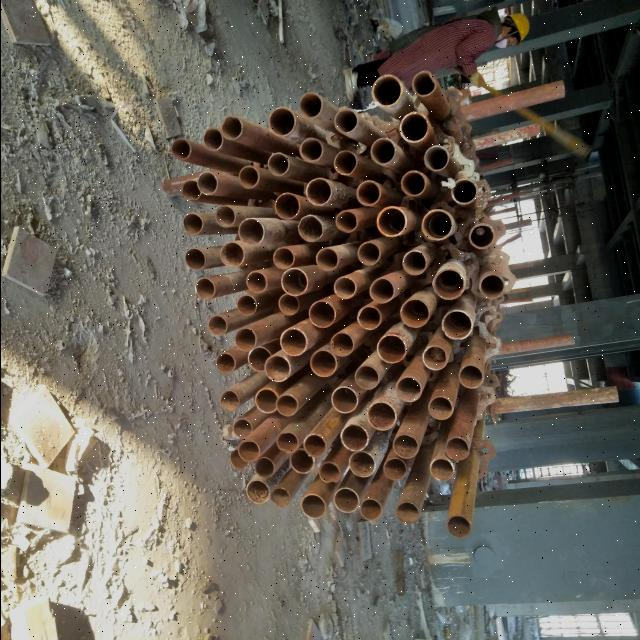pipe: (394, 110, 434, 148), (369, 70, 404, 110), (429, 266, 465, 302), (437, 308, 475, 340), (364, 400, 400, 433), (418, 209, 454, 241), (375, 332, 407, 368), (234, 213, 266, 247), (328, 384, 359, 418), (262, 352, 292, 387), (264, 106, 296, 138), (300, 176, 332, 208), (338, 422, 370, 454), (215, 238, 247, 270), (308, 348, 338, 382), (398, 298, 430, 329), (250, 384, 282, 415), (276, 326, 307, 358), (352, 362, 382, 394), (278, 266, 308, 298), (376, 206, 406, 237), (345, 449, 376, 479), (293, 214, 326, 242), (448, 176, 478, 206), (398, 168, 428, 198), (366, 136, 396, 166), (330, 484, 360, 514), (465, 223, 497, 251), (332, 104, 360, 136), (242, 476, 270, 508), (410, 69, 440, 98), (393, 374, 422, 404), (307, 299, 335, 330), (476, 270, 504, 300), (330, 148, 360, 176), (424, 396, 454, 424), (272, 392, 300, 422), (328, 329, 356, 359), (273, 190, 303, 218), (245, 344, 272, 375), (422, 144, 449, 174), (401, 246, 428, 276), (456, 363, 484, 391), (296, 91, 324, 119), (300, 428, 328, 456), (356, 178, 382, 208), (296, 138, 326, 164), (420, 342, 446, 372), (243, 266, 269, 296), (390, 432, 418, 459), (357, 494, 384, 522), (299, 493, 327, 520), (193, 170, 220, 198), (288, 446, 314, 475), (266, 150, 292, 178), (366, 276, 394, 302), (428, 456, 454, 484), (394, 498, 420, 526), (332, 272, 357, 301), (354, 304, 380, 331), (445, 514, 473, 539), (220, 113, 244, 142), (354, 239, 380, 265), (444, 434, 470, 460), (191, 274, 217, 300), (210, 204, 240, 226), (314, 459, 340, 484), (332, 208, 359, 232), (236, 165, 260, 192), (314, 247, 340, 271), (274, 430, 300, 454), (276, 293, 300, 319), (270, 246, 294, 272), (182, 249, 208, 273), (168, 136, 192, 162), (202, 127, 226, 153), (212, 351, 236, 376), (382, 458, 408, 481), (253, 455, 276, 481), (230, 416, 253, 442), (206, 314, 230, 338), (178, 179, 202, 203), (218, 388, 240, 414), (236, 439, 260, 462), (180, 212, 204, 235), (227, 446, 250, 469), (268, 485, 292, 507), (232, 294, 256, 316)
